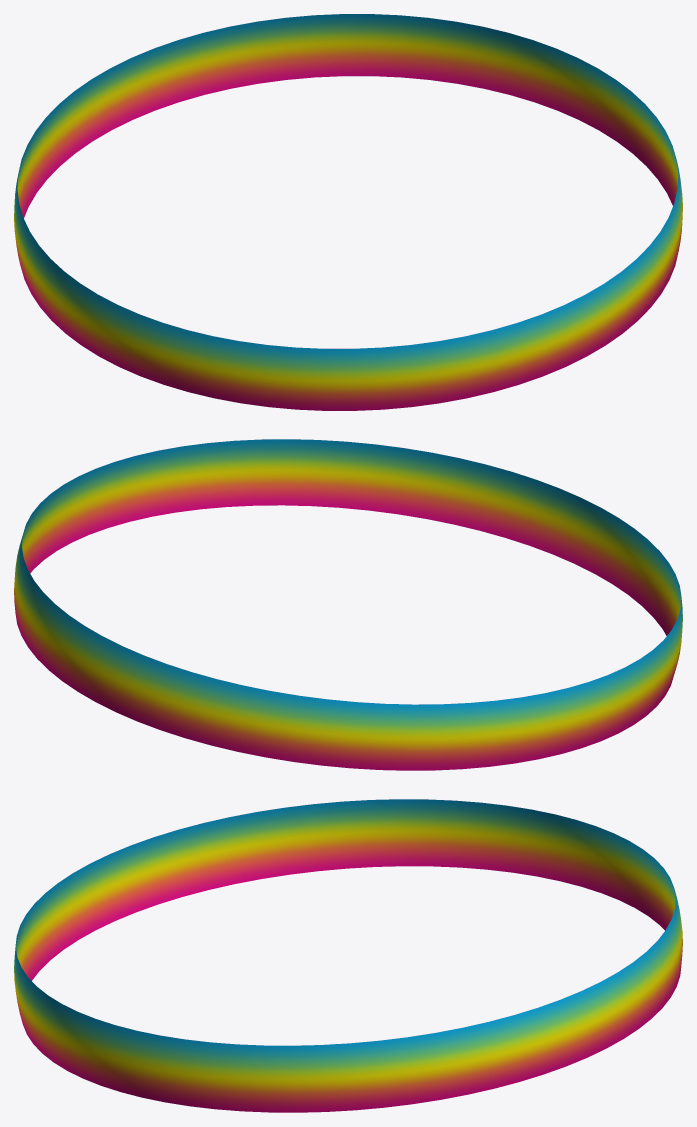
File: RainBow9.fbx
3 renders of one model, top to bottom at view 1: azimuth 30°, elevation 25°; view 2: azimuth 150°, elevation 25°; view 3: azimuth 270°, elevation 25°, orthographic.
Visible parts, largest first — view 1: SM_SlamCircle; view 2: SM_SlamCircle; view 3: SM_SlamCircle.
Part boxes in pixels (bbox=[...]): SM_SlamCircle: bbox=[14, 14, 682, 410]; SM_SlamCircle: bbox=[14, 439, 682, 770]; SM_SlamCircle: bbox=[14, 799, 682, 1112].
Size of the model in its own units: 49.12 by 9.95 by 49.11.
